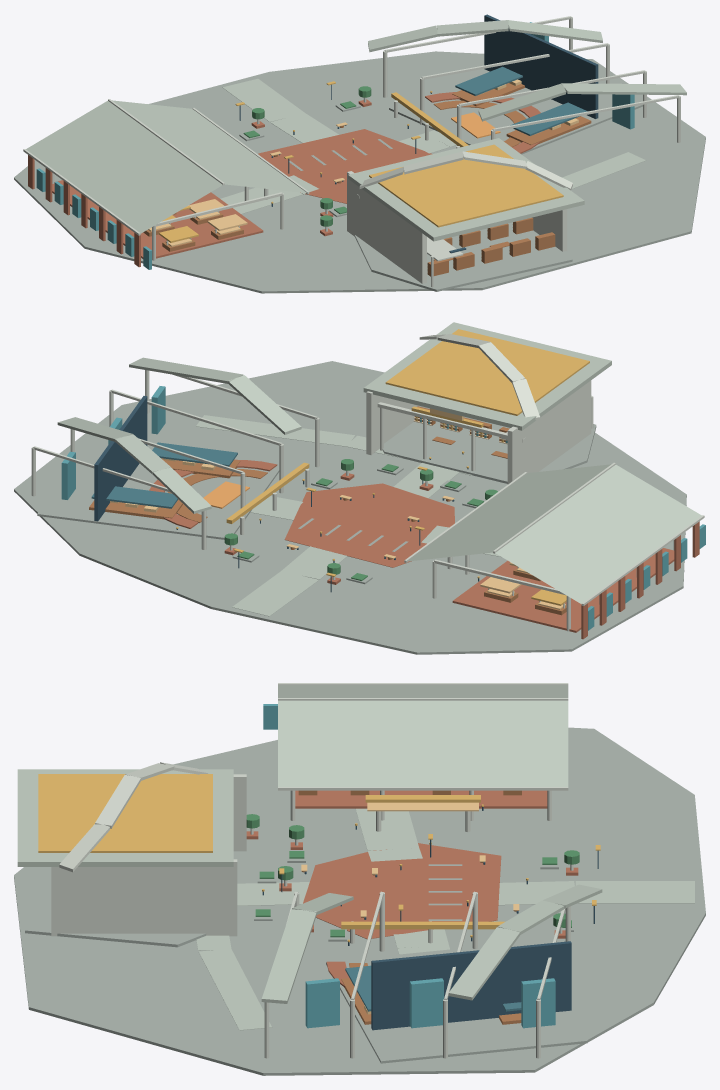
File: a42_public_confluence.obj
The picture shows the model from 3 angles, top to bottom: view 1: azimuth 30°, elevation 25°; view 2: azimuth 150°, elevation 25°; view 3: azimuth 270°, elevation 25°; orthographic projection. The views are drawn at different scales.
Size of the model in its own units: 226 by 35.25 by 186.
